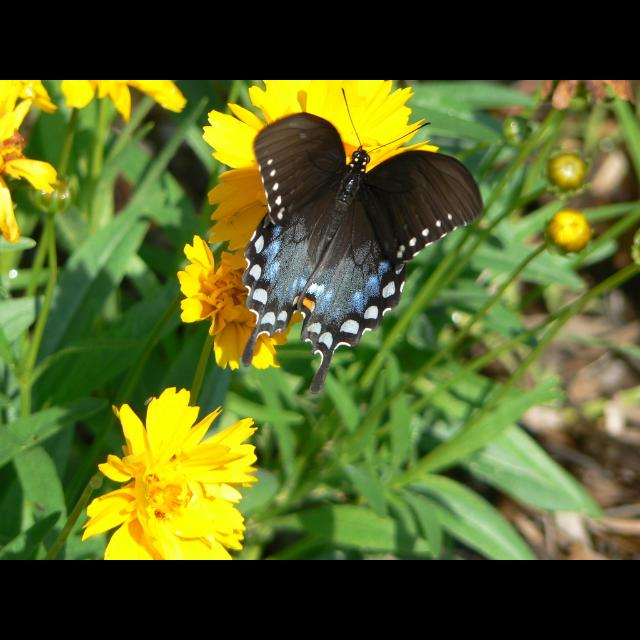Flower: (203, 80, 442, 310), (83, 384, 250, 556), (174, 242, 328, 370), (4, 80, 60, 242), (61, 80, 186, 124)
